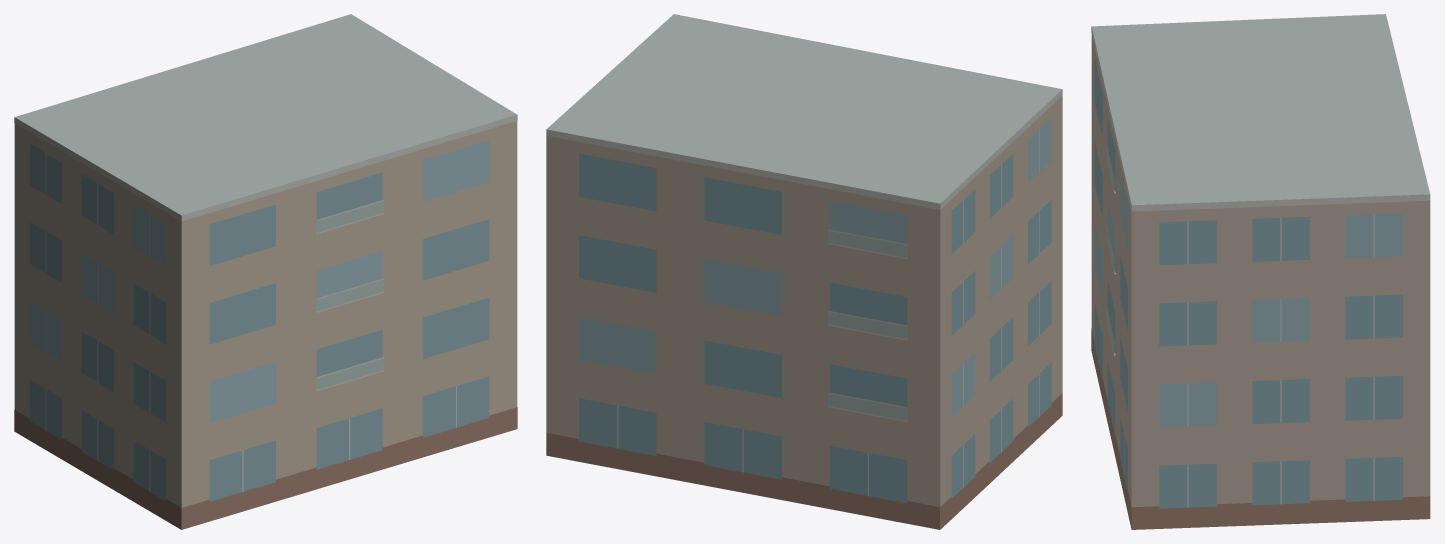
File: survey-upis-32663120.glb
3 renders of one model, left to right at view 1: azimuth 30°, elevation 25°; view 2: azimuth 150°, elevation 25°; view 3: azimuth 270°, elevation 25°, orthographic. The views are drawn at different scales.
Visible parts, largest first — view 1: survey-upis-32663120.tmp; view 2: survey-upis-32663120.tmp; view 3: survey-upis-32663120.tmp.
Boxes of the visible parts, x1,y1,x2,y2 form: survey-upis-32663120.tmp: (14, 14, 517, 529); survey-upis-32663120.tmp: (546, 14, 1062, 529); survey-upis-32663120.tmp: (1091, 14, 1430, 529).
Bounding box in the file's own units: 16.01 × 12.66 × 11.99.
